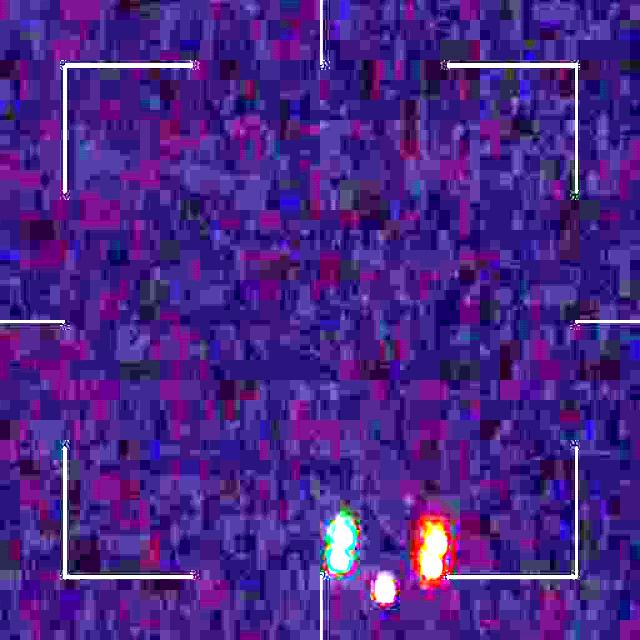bird: (328, 518, 448, 604)
